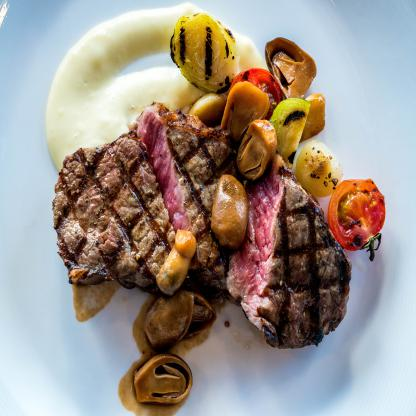Carne: (230, 164, 352, 343), (53, 141, 189, 293), (135, 103, 231, 282)
